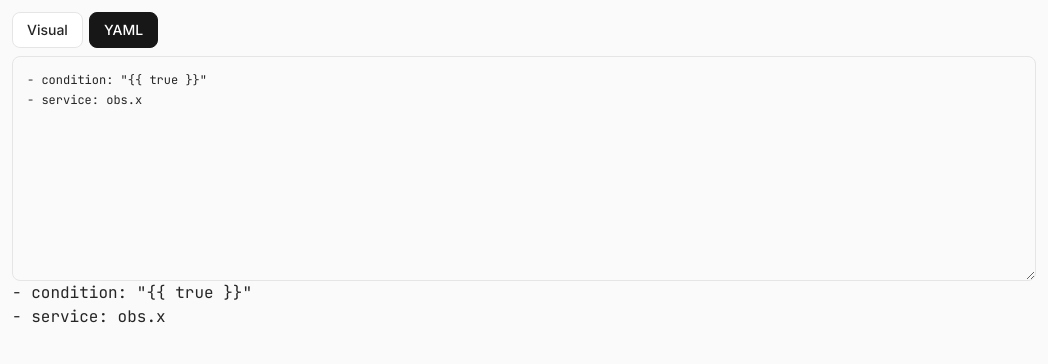
Test case: ActionBuilder › opens existing simple YAML visually and keeps complex YAML in YAML mode
The width and height of the screenshot is (1048, 364).
Later steps or results of the test are not shown.
What coordinates should you click on to do the following:
click the tab "Visual"
I would click on:
 (47, 30)
Its box is top-left (12, 12), bottom-right (83, 48).
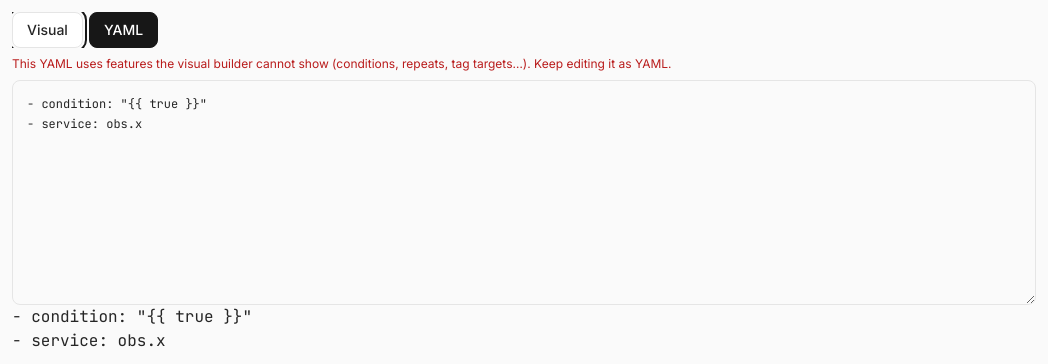
Now the text "cannot show" is shown, box top-left (12, 56), bottom-right (672, 71)
